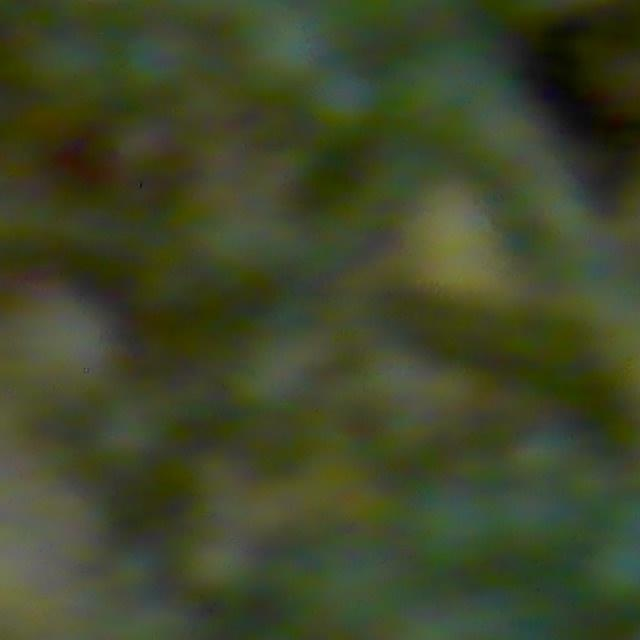SeaGrape: (8, 289, 117, 393), (26, 25, 115, 113), (239, 8, 329, 92), (305, 60, 383, 140), (120, 25, 198, 100), (585, 534, 640, 613)
